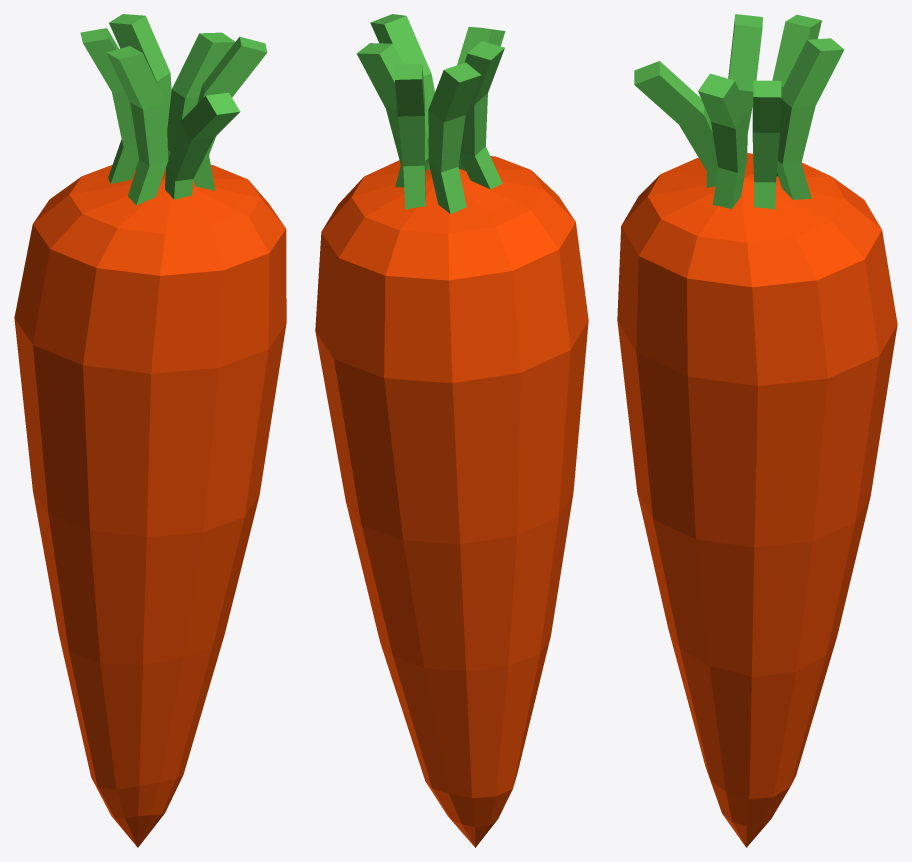
File: carrot.glb
The picture shows the model from 3 angles, left to right: view 1: azimuth 30°, elevation 25°; view 2: azimuth 150°, elevation 25°; view 3: azimuth 270°, elevation 25°; orthographic projection. The views are drawn at different scales.
Parts seen in each view (by area): view 1: Sphere.015; view 2: Sphere.015; view 3: Sphere.015.
Part boxes in pixels (bbox=[...]): Sphere.015: bbox=[14, 14, 286, 847]; Sphere.015: bbox=[315, 14, 588, 847]; Sphere.015: bbox=[617, 14, 897, 847].
Size of the model in its own units: 0.8871 by 2.87 by 0.8875.
1 material, 1 textured.
